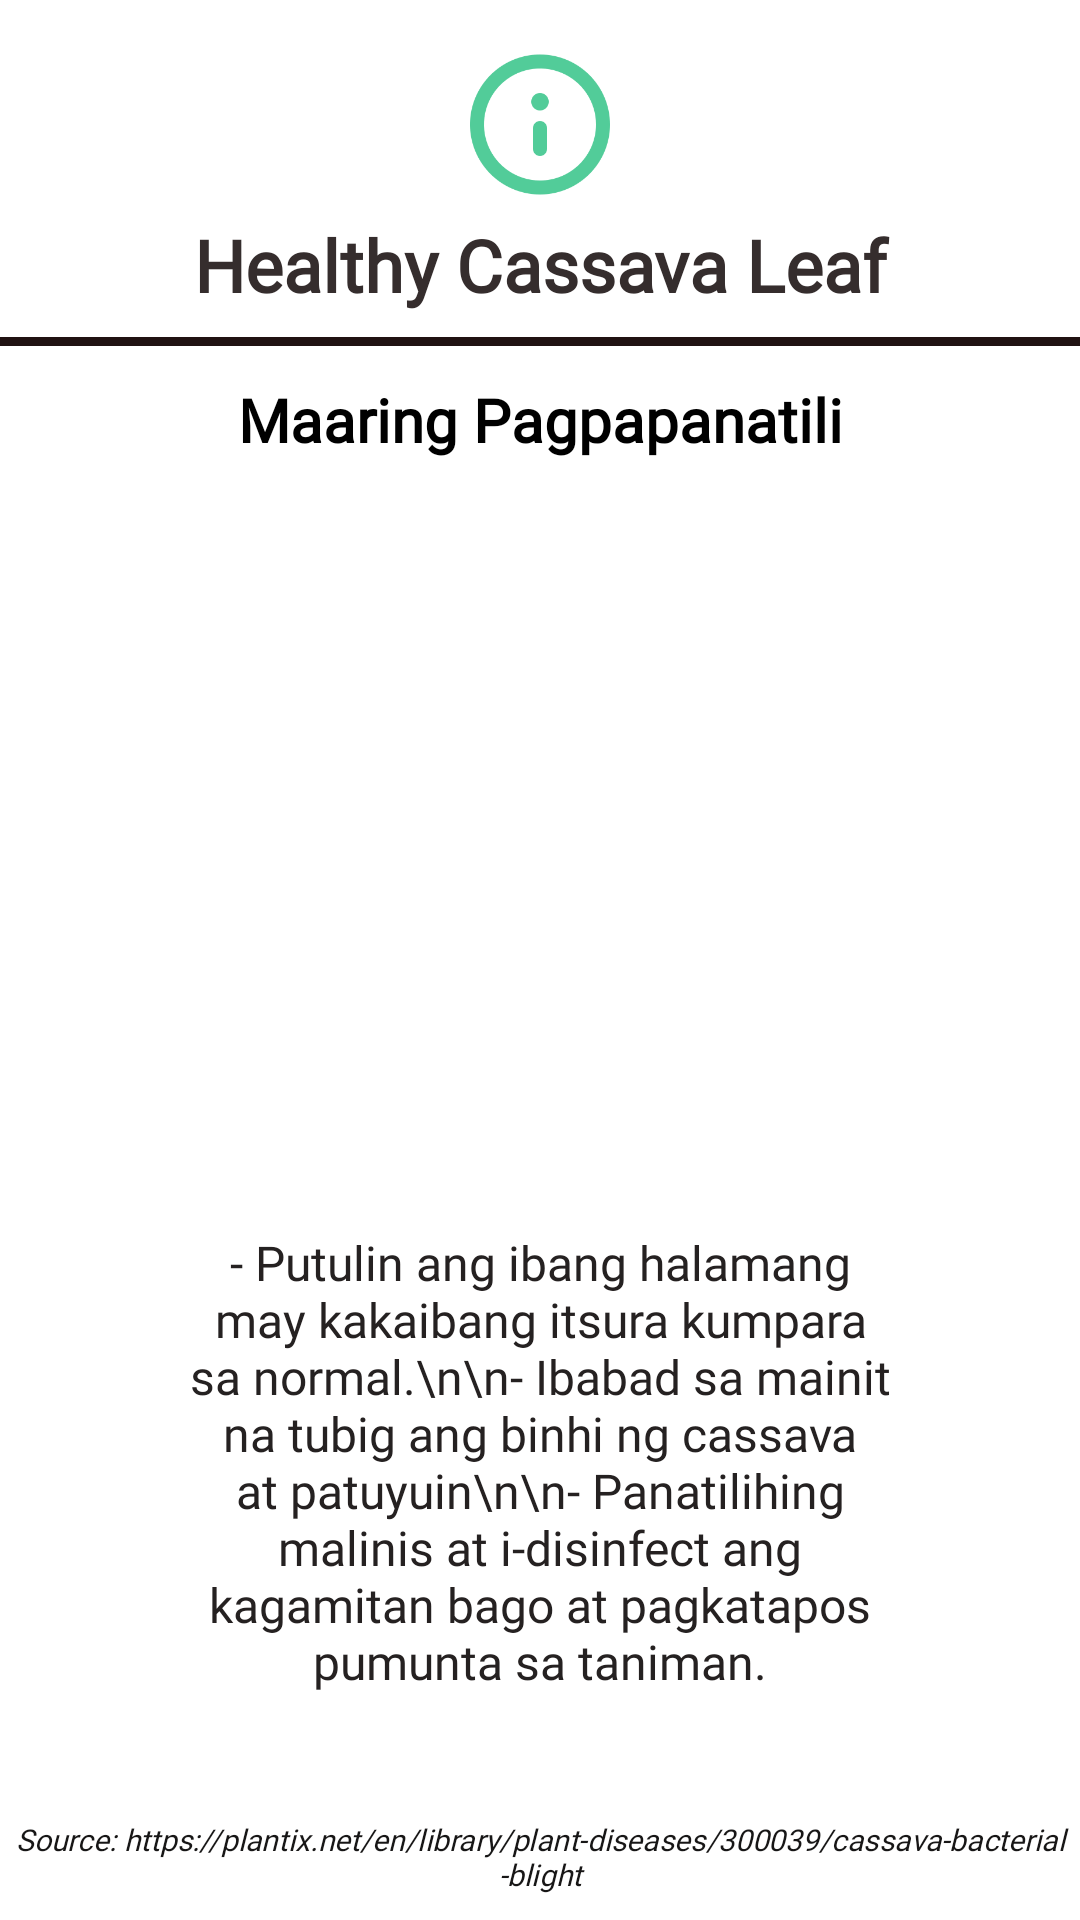

Locate icon controls on the screen. Image size 1080 x 1920, boxes as (x1,y1,x2,y2).
information: (470,54,610,195)
